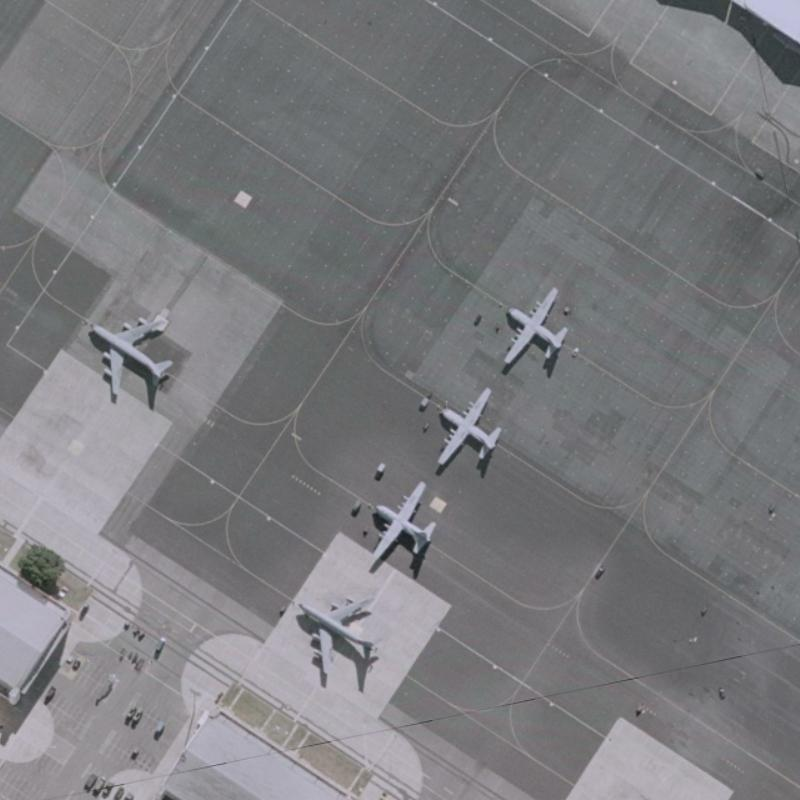A14: (84, 311, 177, 399), (291, 593, 385, 678)
A2: (364, 478, 438, 571), (433, 384, 505, 472), (495, 285, 570, 369)
